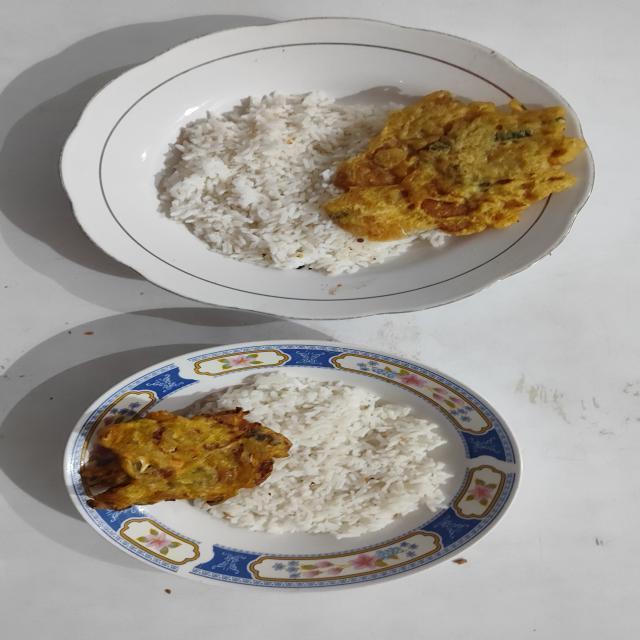nasi_putih: (157, 92, 453, 276), (180, 370, 452, 540)
